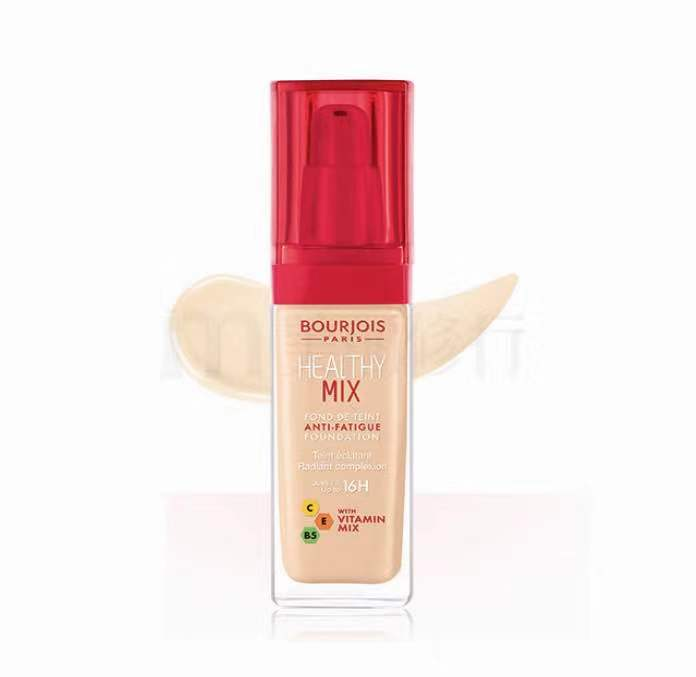cosmetic: (265, 81, 418, 619)
